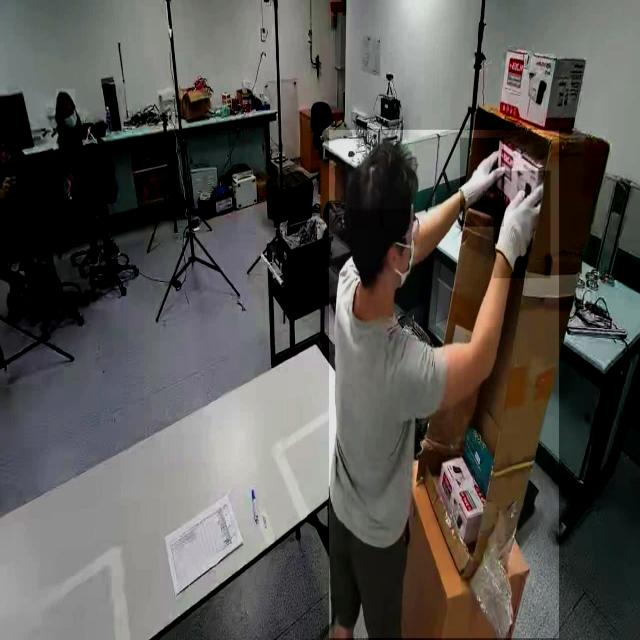face_nomask: (0, 143, 10, 165)
hand_glove: (494, 171, 550, 278), (460, 138, 504, 226)
hand_noglove: (1, 177, 11, 201)
head_nohelmet: (344, 138, 414, 210), (56, 89, 76, 106), (1, 124, 11, 142)
person: (329, 130, 559, 639)
